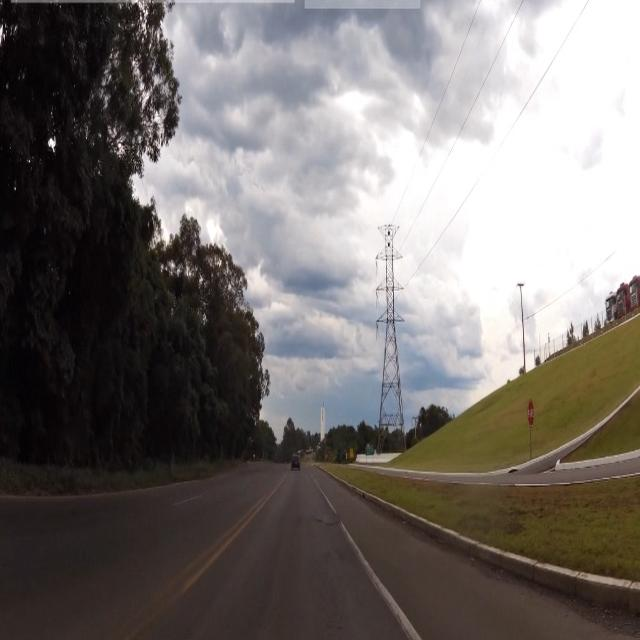R-1: (528, 400, 535, 428)
